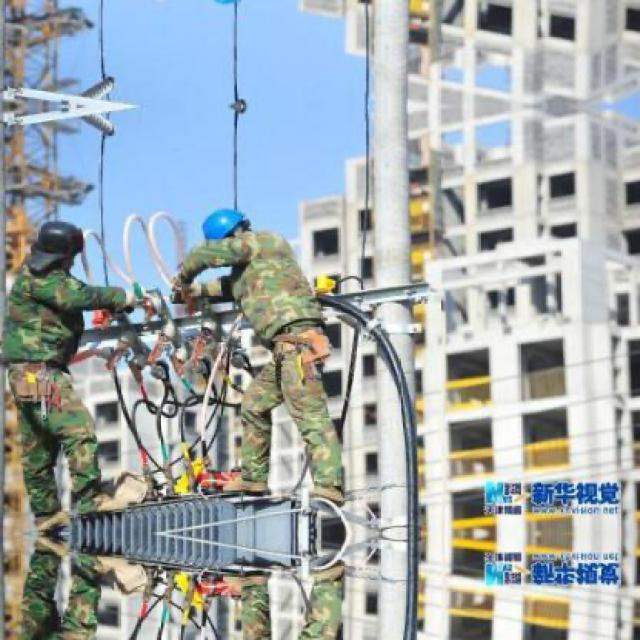helmet: (35, 213, 83, 267), (200, 203, 254, 250), (198, 0, 254, 8)
